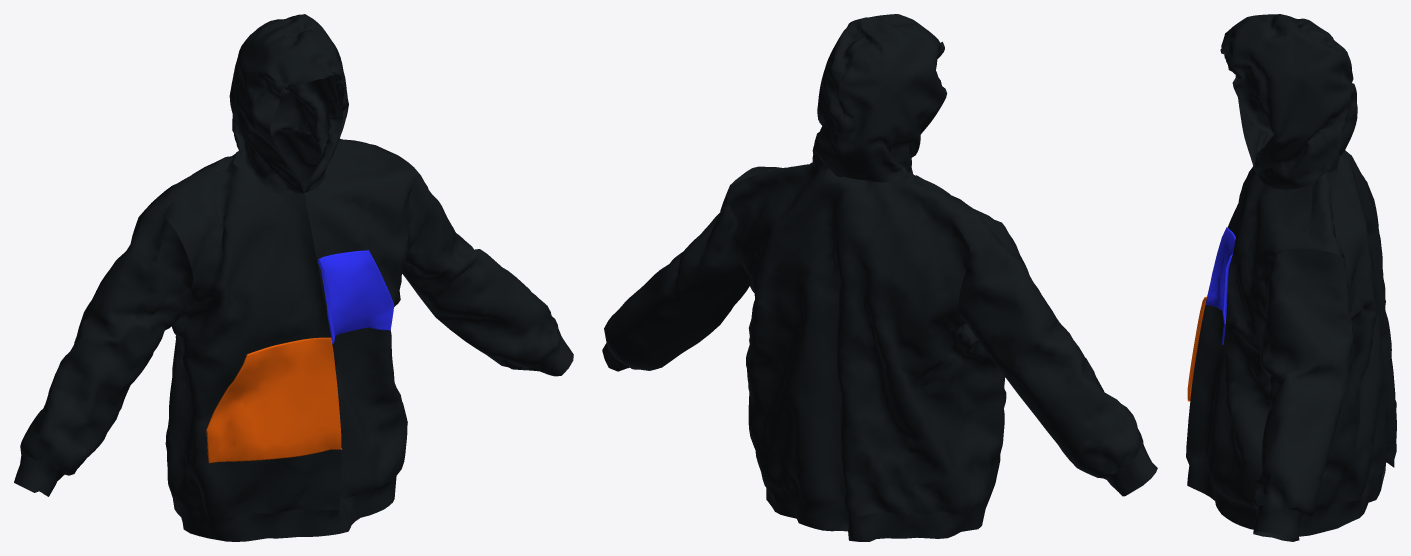
Rendered from FLG_114_11_02_3.fbx.
3 renders of one model, left to right at view 1: azimuth 30°, elevation 25°; view 2: azimuth 150°, elevation 25°; view 3: azimuth 270°, elevation 25°, orthographic. The views are drawn at different scales.
Visible parts, largest first — view 1: FLG_114_11_02_3; view 2: FLG_114_11_02_3; view 3: FLG_114_11_02_3.
Part boxes in pixels (x1,y1,x2,y2): FLG_114_11_02_3: (14,14,573,541); FLG_114_11_02_3: (602,14,1157,541); FLG_114_11_02_3: (1186,14,1396,541).
Bounding box in the file's own units: 114 × 96.33 × 38.72.
